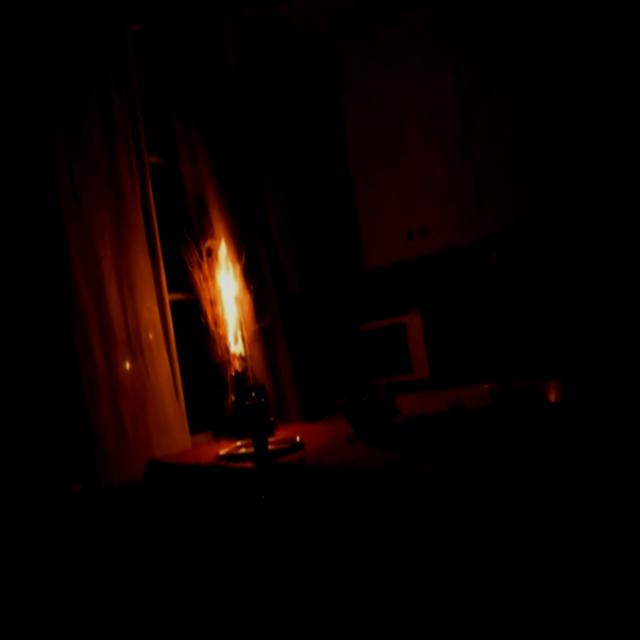fire: (176, 164, 286, 409)
